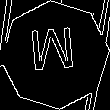M_S: (29, 28, 81, 82)
